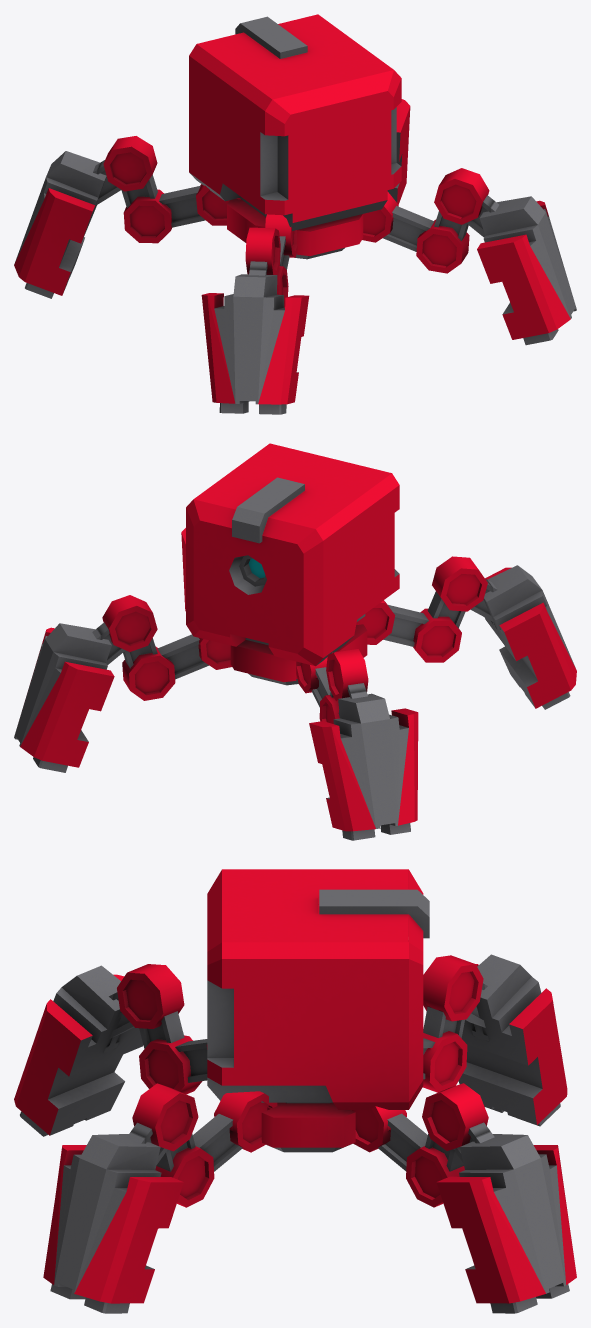
The model's file is Monster1_Attack7.obj.
3 renders of one model, top to bottom at view 1: azimuth 30°, elevation 25°; view 2: azimuth 150°, elevation 25°; view 3: azimuth 270°, elevation 25°, orthographic. The views are drawn at different scales.
Visible parts, largest first — view 1: Box006, Object021, Object017, Object025, Object028, Object020, Object027, Object019, Object018, Object026, Object024, Object013 (+1 smaller); view 2: Box006, Object025, Object013, Object021, Object016, Object024, Object023, Object015, Object014, Object022, Object028, Object026; view 3: Box006, Object013, Object017, Object021, Object025, Object018, Object024, Object016, Object020, Object028, Object023, Object027 (+4 smaller).
Boxes of the visible parts, x1,y1,x2,y2 form: Box006: (189, 14, 401, 259); Object021: (201, 274, 309, 414); Object017: (477, 196, 576, 345); Object025: (14, 151, 106, 298); Object028: (93, 136, 157, 205); Object020: (434, 168, 498, 237); Object027: (121, 174, 171, 243); Object019: (416, 211, 469, 273); Object018: (362, 192, 434, 251); Object026: (159, 184, 240, 227); Object024: (245, 227, 280, 275); Object013: (387, 99, 410, 204); Box006: (186, 443, 399, 685); Object025: (309, 693, 418, 840); Object013: (14, 623, 114, 772); Object021: (483, 565, 576, 709); Object016: (92, 595, 157, 665); Object024: (432, 556, 497, 621); Object023: (413, 591, 465, 662); Object015: (122, 638, 175, 700); Object014: (157, 634, 231, 679); Object022: (356, 600, 428, 646); Object028: (326, 649, 368, 700); Object026: (296, 652, 332, 707); Box006: (207, 869, 429, 1152); Object013: (436, 1134, 576, 1313); Object017: (43, 1134, 183, 1313); Object021: (14, 965, 143, 1136); Object025: (458, 954, 567, 1126); Object018: (193, 1091, 277, 1171); Object024: (109, 964, 184, 1038); Object016: (422, 1083, 494, 1162); Object020: (126, 1083, 198, 1164); Object028: (423, 955, 487, 1027); Object023: (139, 1011, 202, 1094); Object027: (423, 1007, 467, 1092).
Size of the model in its own units: 151 by 94.77 by 154.
